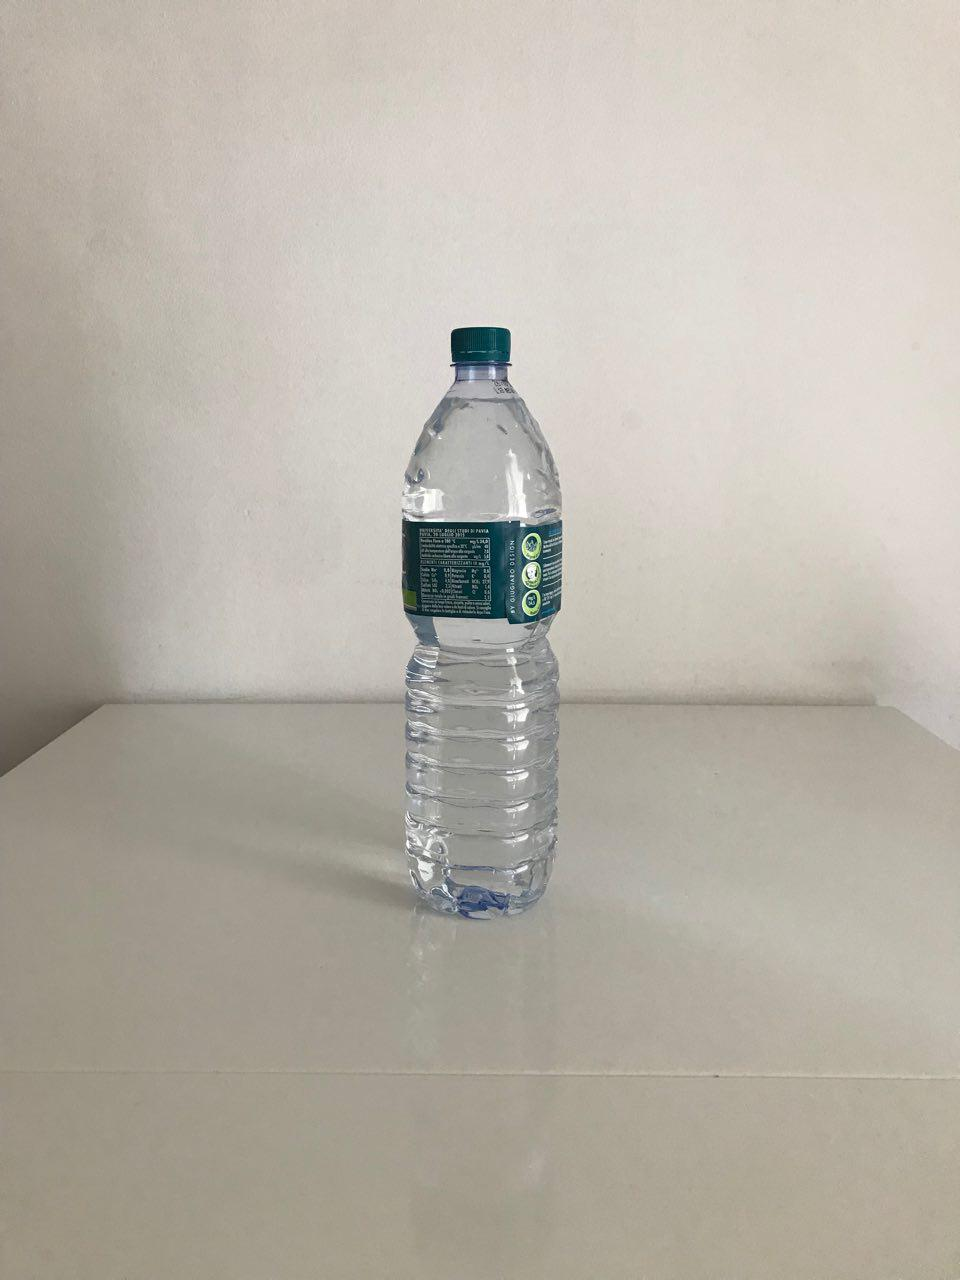san_bernardo: (399, 325, 566, 920)
